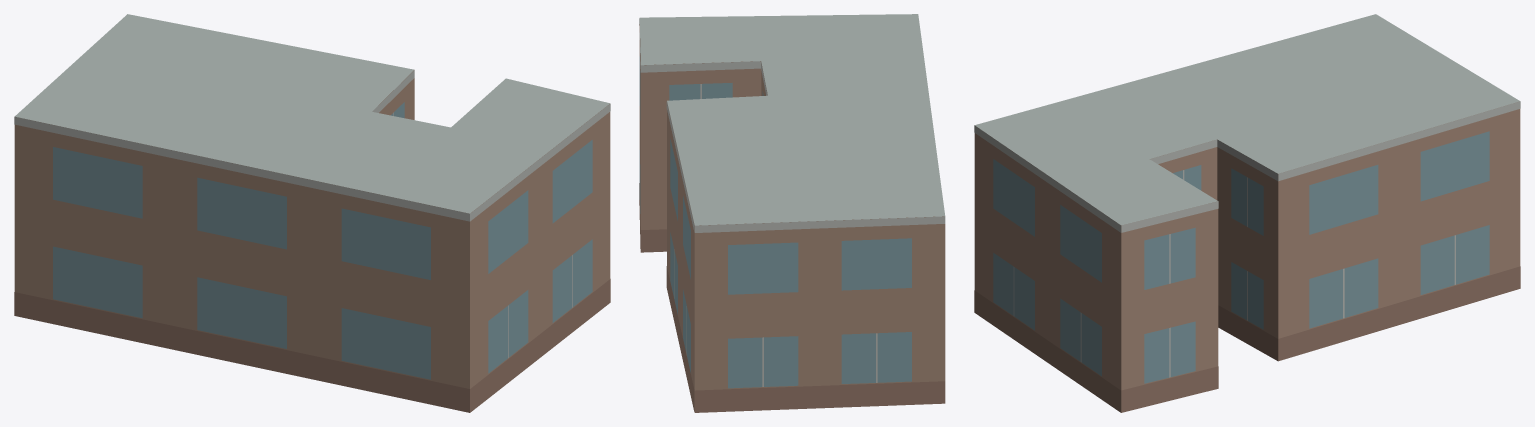
File: survey-upis-32767199.glb
3 views of the same model, side by side, from view 1: azimuth 30°, elevation 25°; view 2: azimuth 150°, elevation 25°; view 3: azimuth 270°, elevation 25° (orthographic). The views are drawn at different scales.
Parts seen in each view (by area): view 1: survey-upis-32767199.tmp; view 2: survey-upis-32767199.tmp; view 3: survey-upis-32767199.tmp.
Part boxes in pixels (left/top/right/bottom): survey-upis-32767199.tmp: left=14, top=14, right=610, bottom=412; survey-upis-32767199.tmp: left=639, top=14, right=945, bottom=412; survey-upis-32767199.tmp: left=974, top=14, right=1520, bottom=412.
Bounding box in the file's own units: 14.77 × 6.1 × 16.11.
